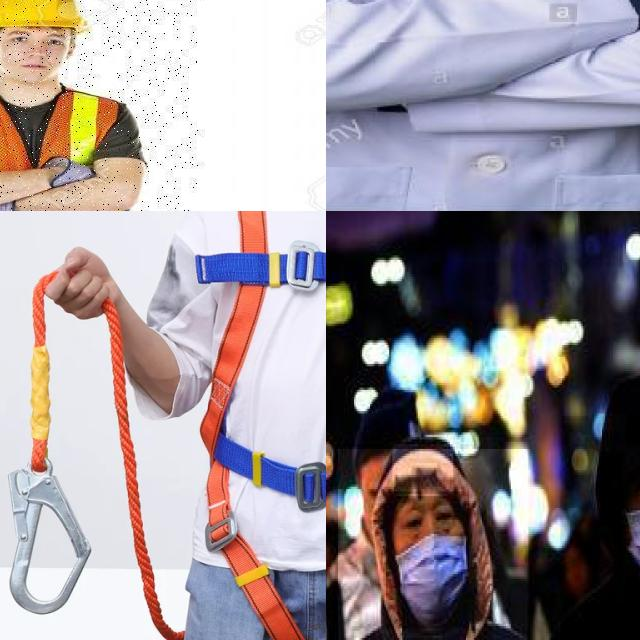Harness: (196, 211, 326, 640)
No_Glasses: (2, 28, 74, 56)
face_mask: (386, 492, 469, 628), (622, 444, 640, 576)
head_helmet: (0, 0, 90, 37)
head_nohelmet: (602, 363, 640, 470), (392, 444, 453, 496)
person: (326, 0, 640, 211), (0, 0, 198, 211), (338, 449, 530, 640), (560, 416, 640, 640)
vest: (0, 88, 132, 211)
